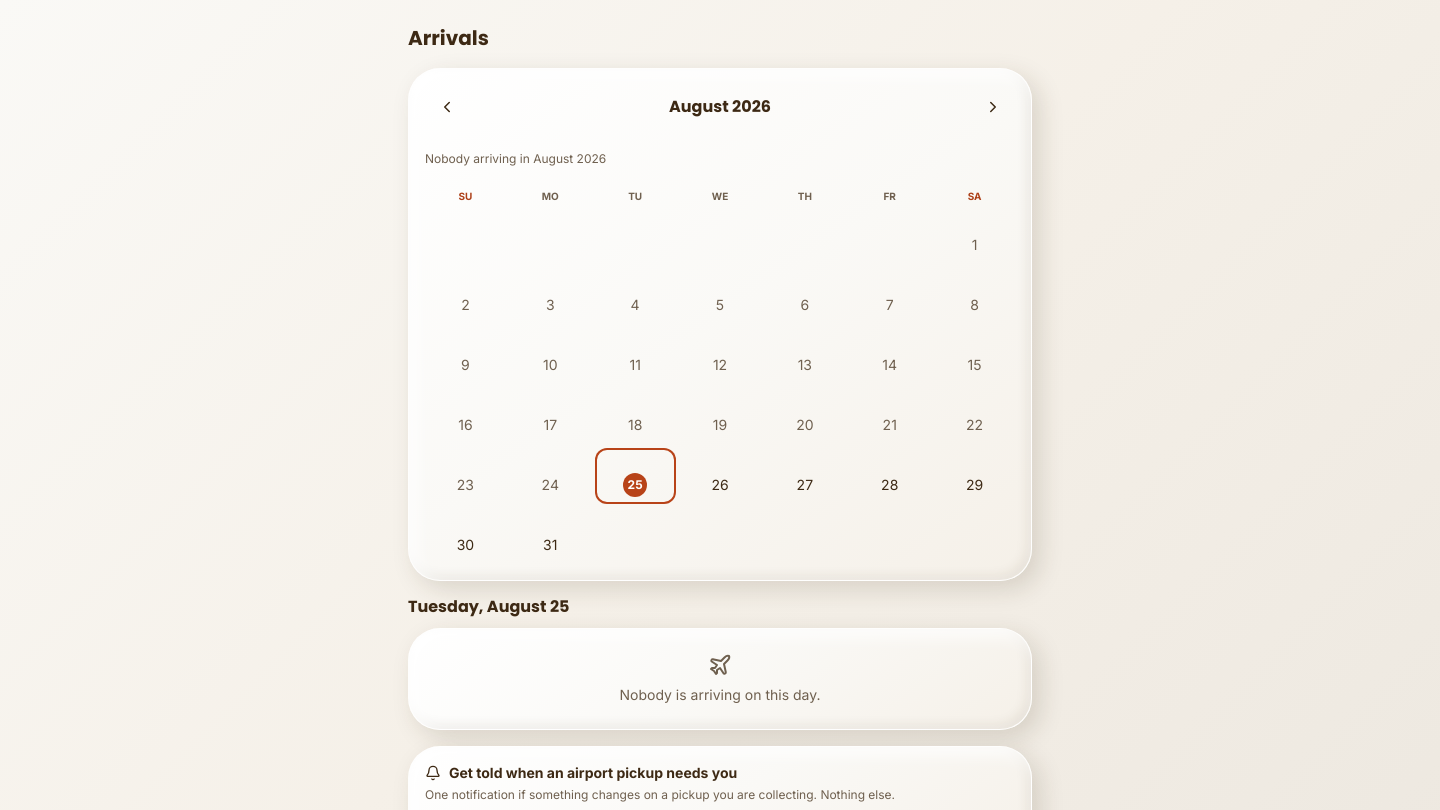
it: the day list below the grid › still names a day after paging to another month
What coordinates should you click on to do the following:
click the button named "next month"
I would click on:
 (993, 107)
Its box is [971,85,1015,129].
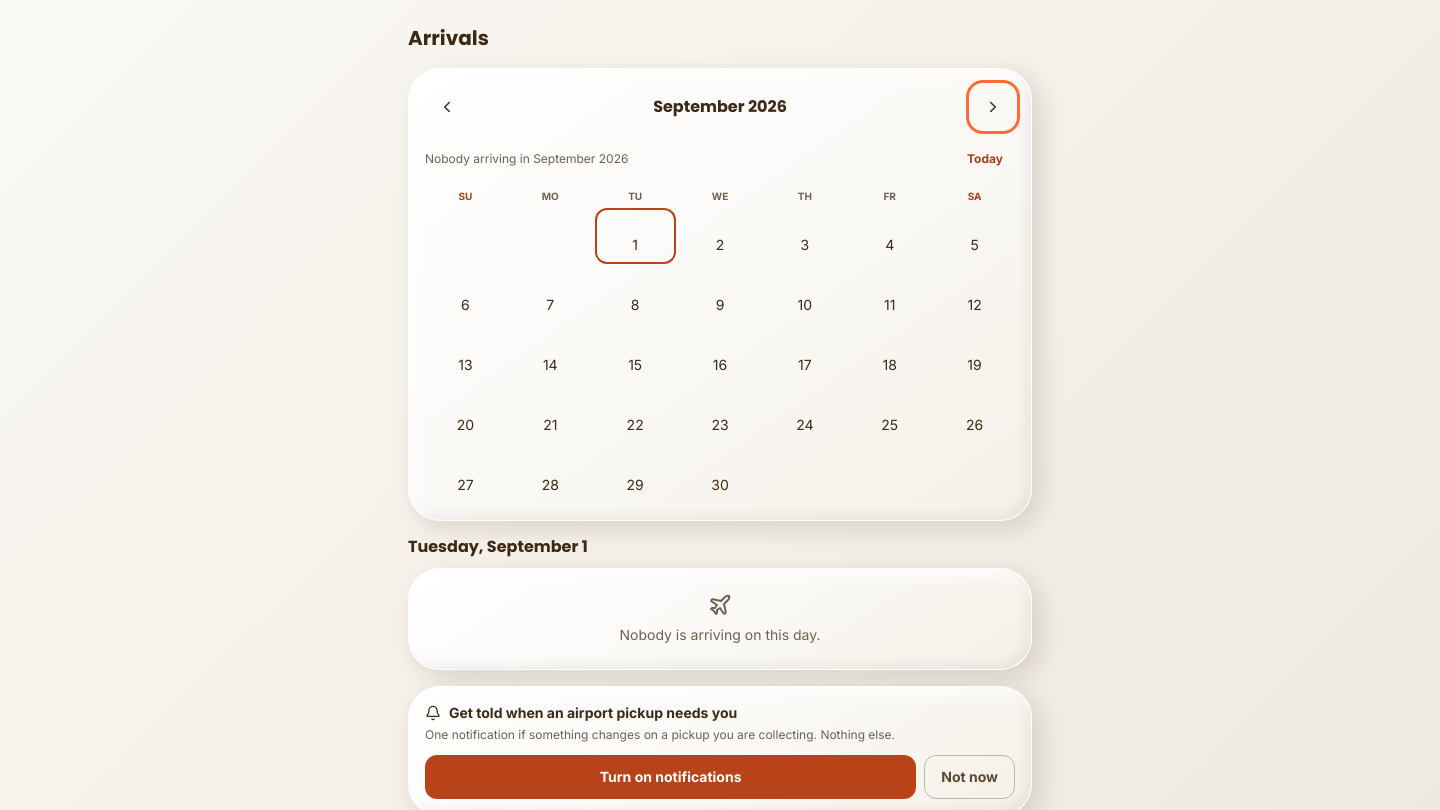
Result: the heading "September 2026" is shown at [653,97,787,117]
Result: the element "Tuesday, September 1 Nobody is arriving on this day." is shown at [408,537,1032,670]
